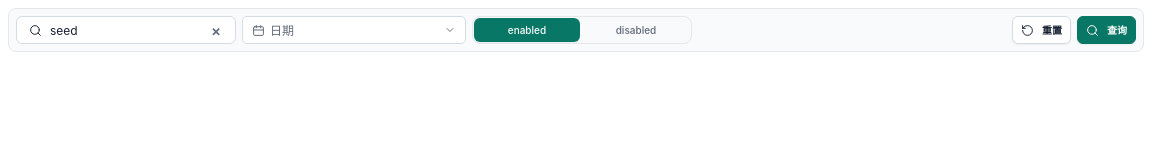
Test: MmQueryBar › resets to fresh schema defaults and reports field changes
Replace the text in the field with "changed": (124,30) [42,17,206,43]
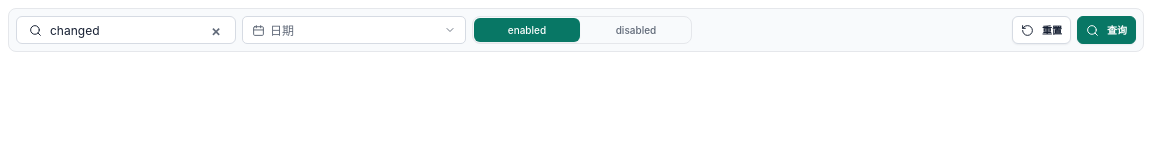
Click the button "重置": (1042,30) [1012,16,1071,44]
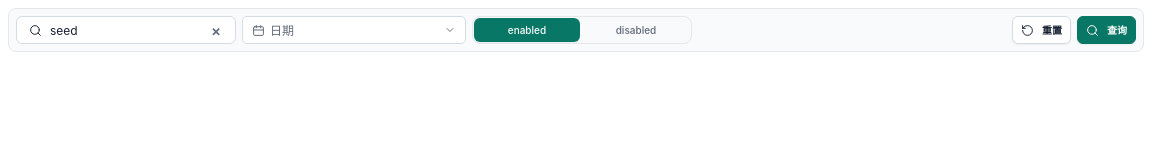
Check: the field holds "seed", box [42,17,206,43]
